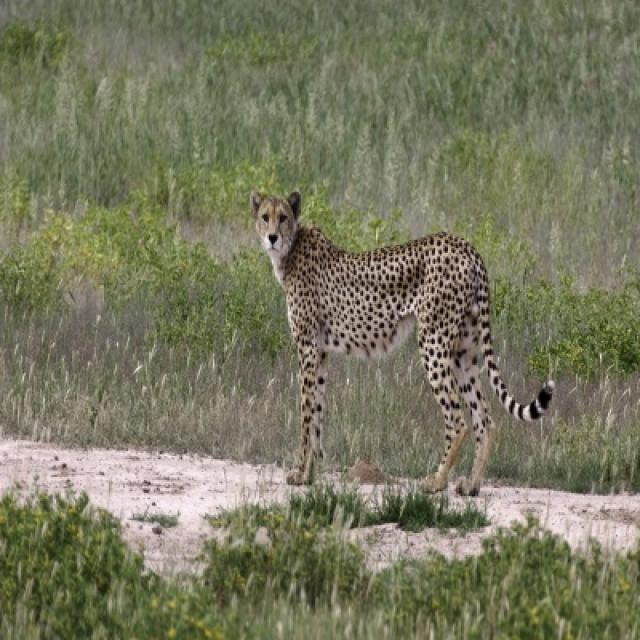Cheetah: (253, 192, 555, 496)
